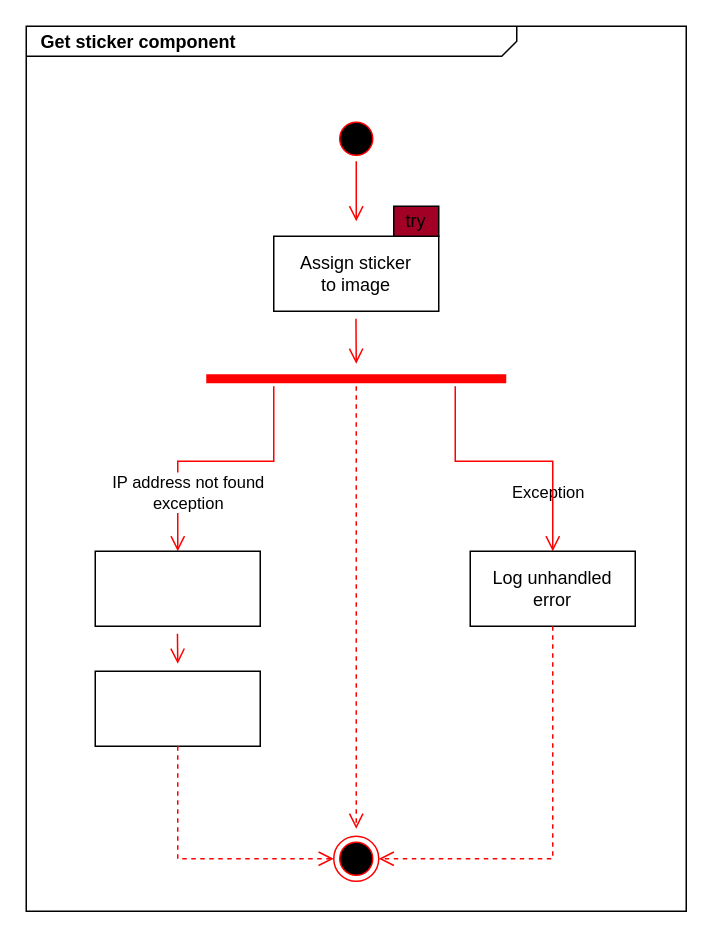
Image size: 713x938. Some labels were removed from this diagram. The shapes that lost their labels are listed below. From the top down, each one's centre as x and y in pixels, then its label:
At point (177, 588): "Log error".
At point (177, 708): "Assing image not found icon".
